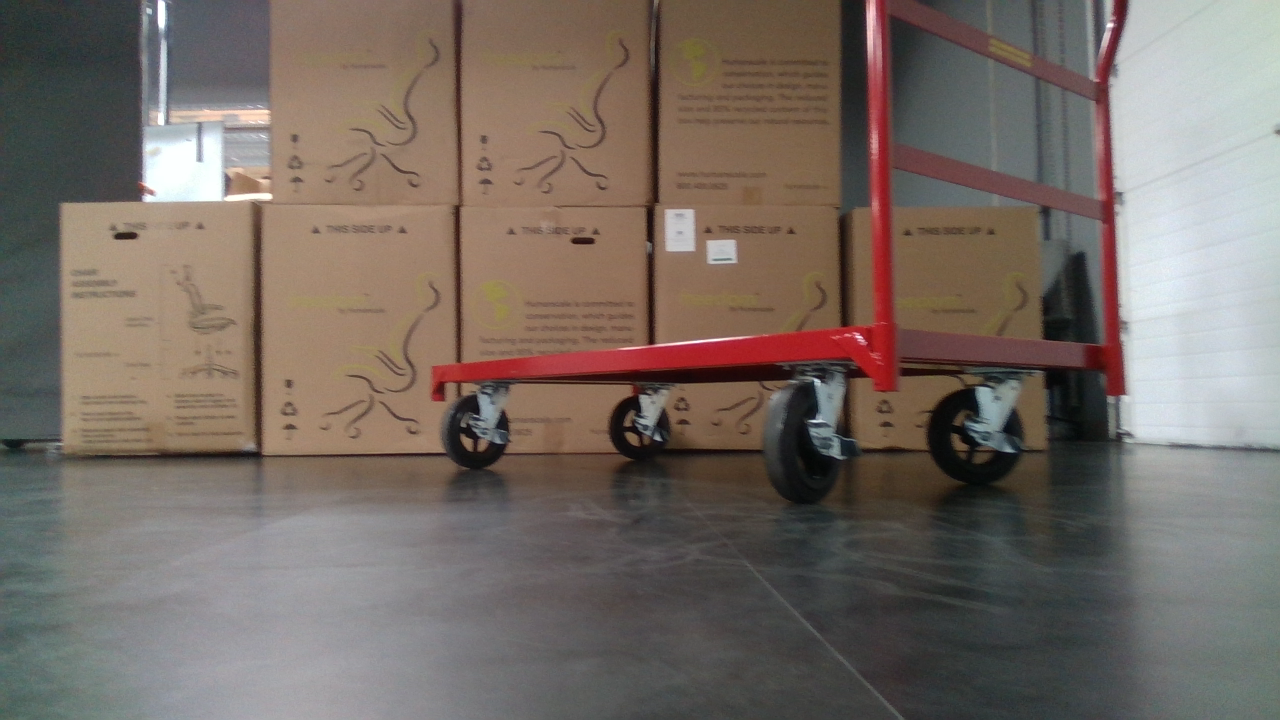Dolly: (429, 0, 1129, 504)
Wheel: (757, 368, 854, 506), (925, 379, 1029, 486), (443, 387, 513, 472), (610, 391, 674, 462)
